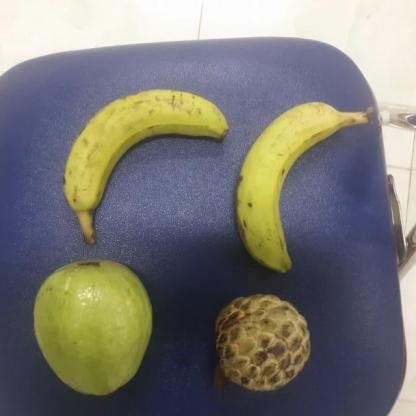annona: (211, 289, 315, 392)
banana: (60, 85, 236, 219), (235, 98, 352, 277)
guava: (32, 254, 159, 396)
